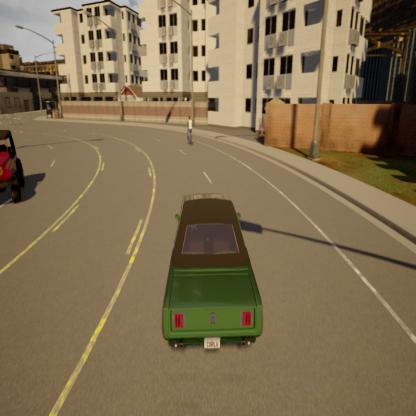Cars: (152, 176, 267, 351), (0, 121, 34, 214)
